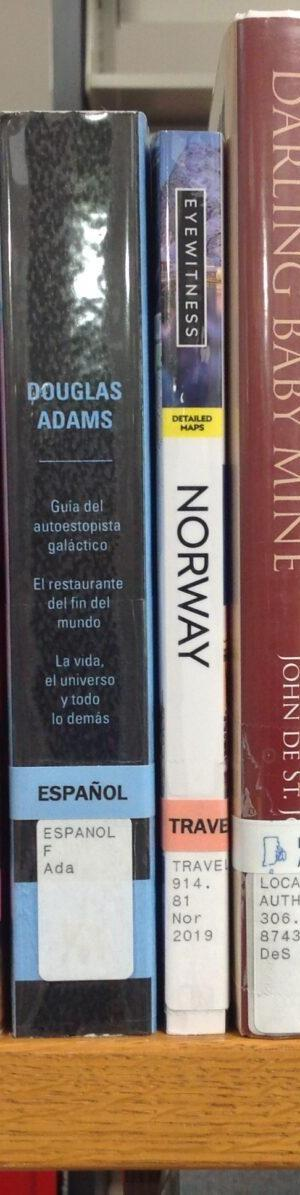call_number: (34, 816, 130, 978), (161, 844, 225, 1009), (242, 866, 299, 1013)
